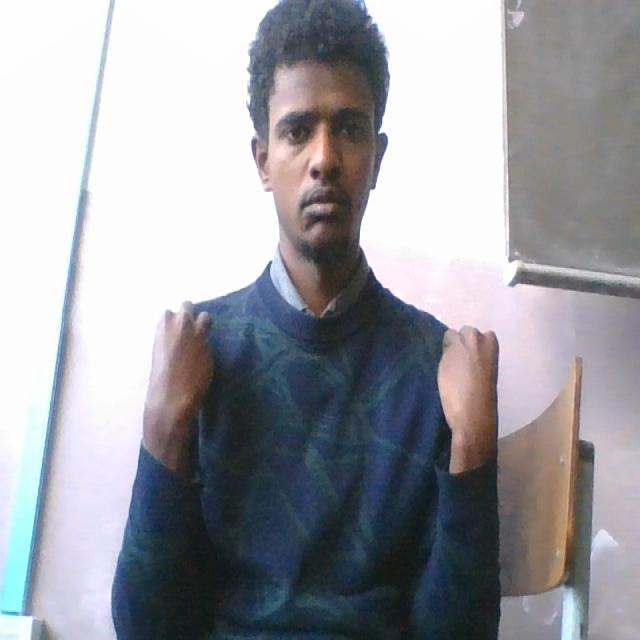tena_ystilgn: (140, 290, 503, 592)
